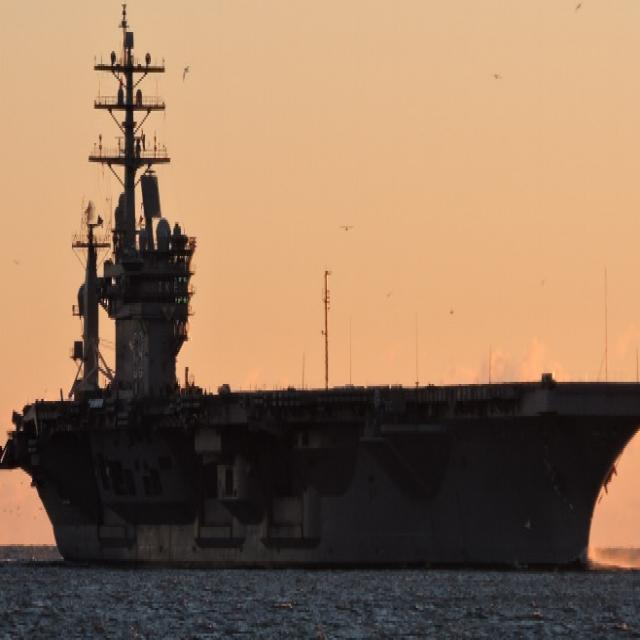Portanaves: (1, 1, 640, 573)
